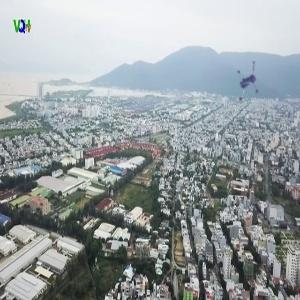drone: (225, 61, 278, 114)
